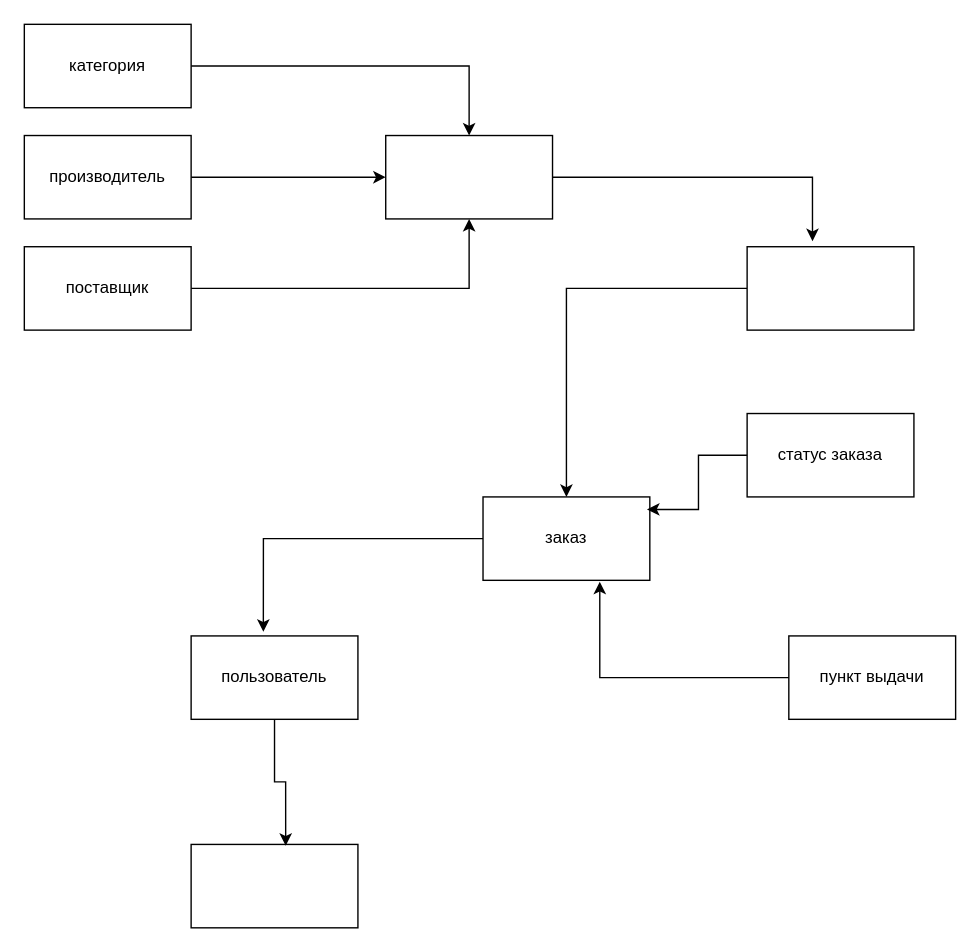
Some shapes in this 980 by 952 pixel diagram are drawn without their labels. The centre of each missing label's shape, as x and y in pixels:
"роль" goes at (274,885).
"строка заказа" goes at (830,287).
"товар" goes at (468,176).
